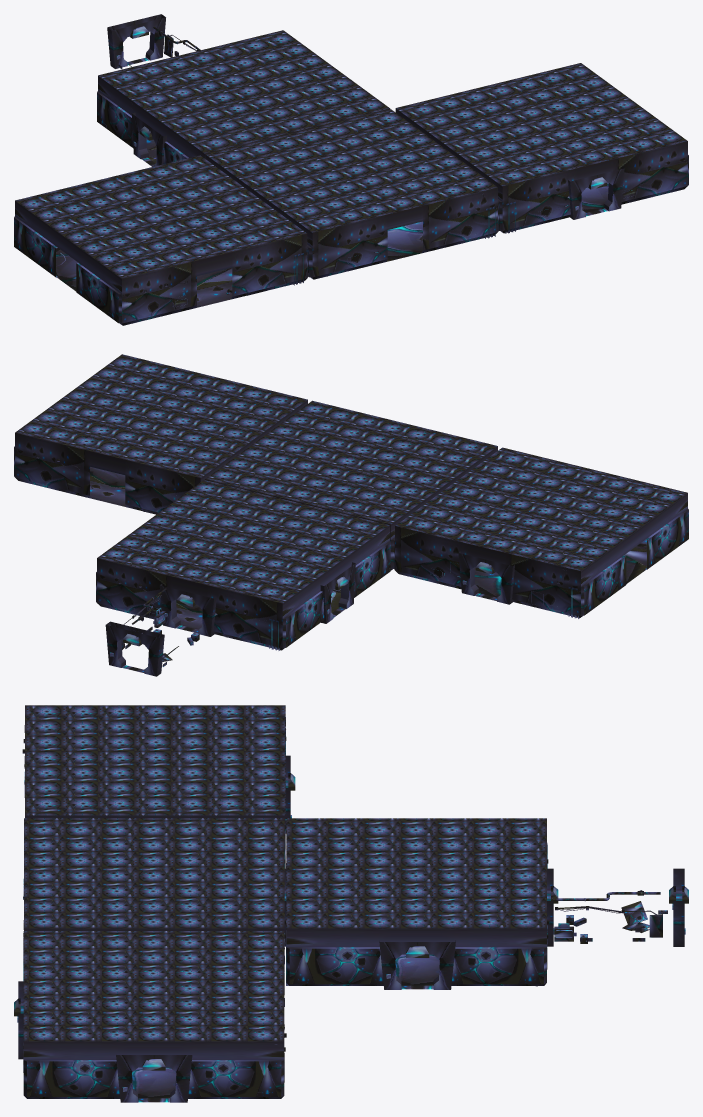
Rendered from Combined_Mesh_root_scene__10_7ad9d44b__ZombiesII_laboratory_11_d_6be3923c_c1f257_part002.obj.
3 views of the same model, one above another, from view 1: azimuth 30°, elevation 25°; view 2: azimuth 150°, elevation 25°; view 3: azimuth 270°, elevation 25° (orthographic). The views are drawn at different scales.
Bounding box in the file's own units: 124 × 10.21 × 104.
261 materials, 261 textured.
